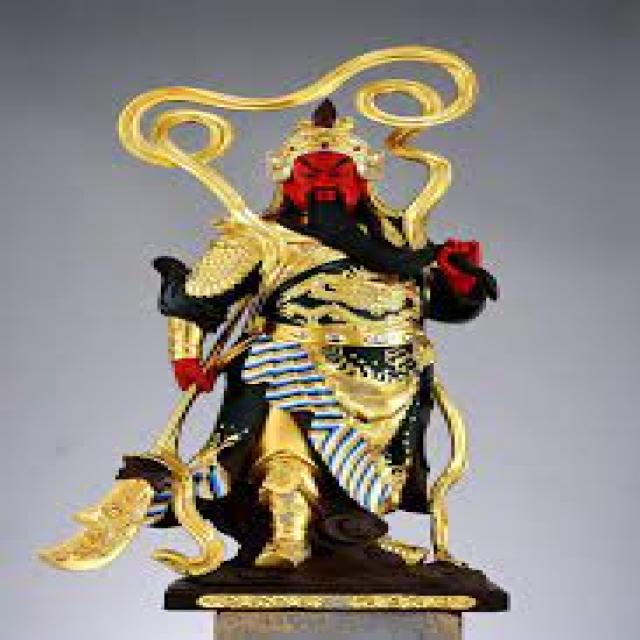Guan Yu: (130, 73, 466, 490)
